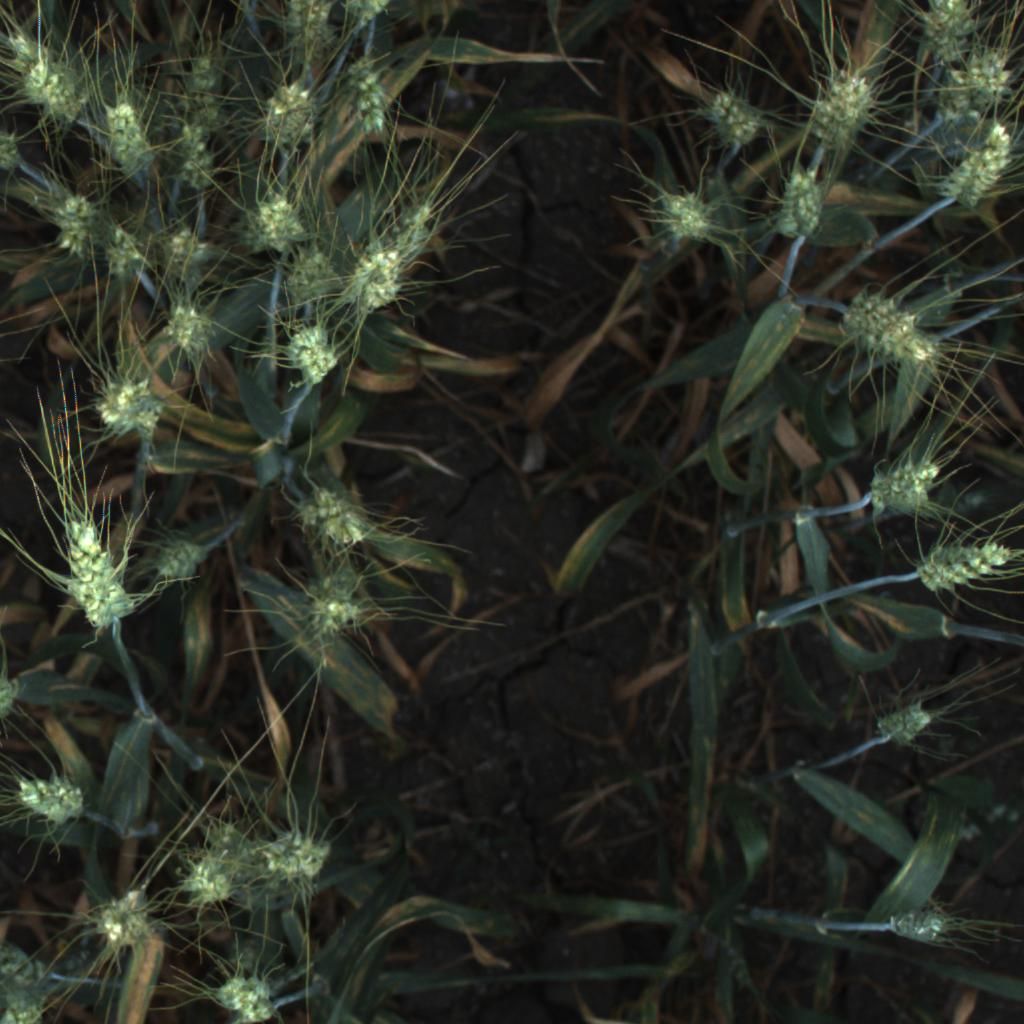0-0: (40, 495, 150, 645), (831, 280, 953, 377), (77, 343, 177, 460), (784, 47, 889, 155), (263, 473, 383, 557), (899, 525, 1019, 608), (932, 112, 1019, 222), (228, 63, 322, 161), (286, 562, 375, 655), (254, 312, 348, 395), (95, 92, 168, 198), (683, 80, 776, 163), (858, 444, 948, 527), (1, 937, 111, 1003), (926, 45, 1017, 124), (14, 33, 88, 128), (910, 0, 990, 86), (138, 529, 227, 603), (758, 156, 828, 249), (648, 174, 722, 259), (238, 170, 310, 257), (38, 181, 119, 253), (159, 215, 235, 284), (266, 0, 338, 66), (281, 224, 334, 307), (97, 219, 163, 284), (337, 242, 402, 308), (178, 52, 229, 135), (159, 301, 221, 369), (883, 890, 954, 949), (262, 830, 333, 888), (17, 769, 86, 828), (179, 843, 238, 911), (886, 683, 948, 747), (380, 203, 432, 276), (105, 875, 170, 933), (221, 977, 298, 1024), (343, 56, 388, 130), (176, 131, 221, 195), (1, 989, 69, 1022)
